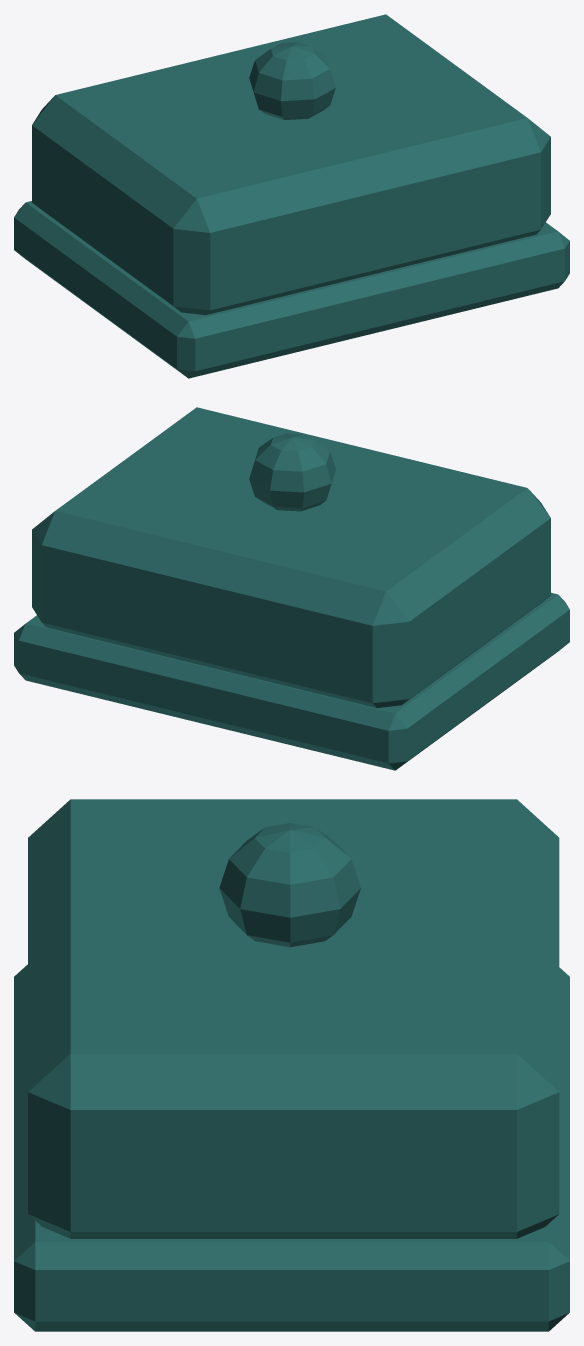
File: headwear-beanie.glb
The picture shows the model from 3 angles, top to bottom: view 1: azimuth 30°, elevation 25°; view 2: azimuth 150°, elevation 25°; view 3: azimuth 270°, elevation 25°; orthographic projection. The views are drawn at different scales.
Parts seen in each view (by area): view 1: headwear-beanie-0; view 2: headwear-beanie-0; view 3: headwear-beanie-0.
Part boxes in pixels (x1=…): headwear-beanie-0: x1=14, y1=14, x2=569, y2=378; headwear-beanie-0: x1=14, y1=407, x2=569, y2=770; headwear-beanie-0: x1=14, y1=799, x2=569, y2=1331.
Size of the model in its own units: 1.01 by 0.56 by 0.785.
